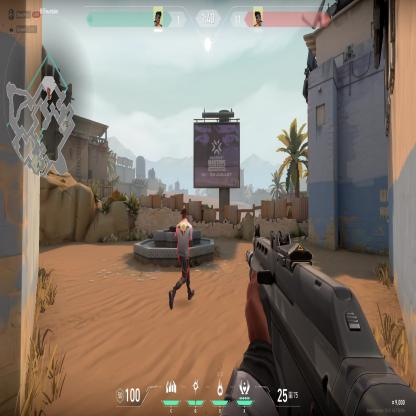enemy: (168, 206, 196, 311)
